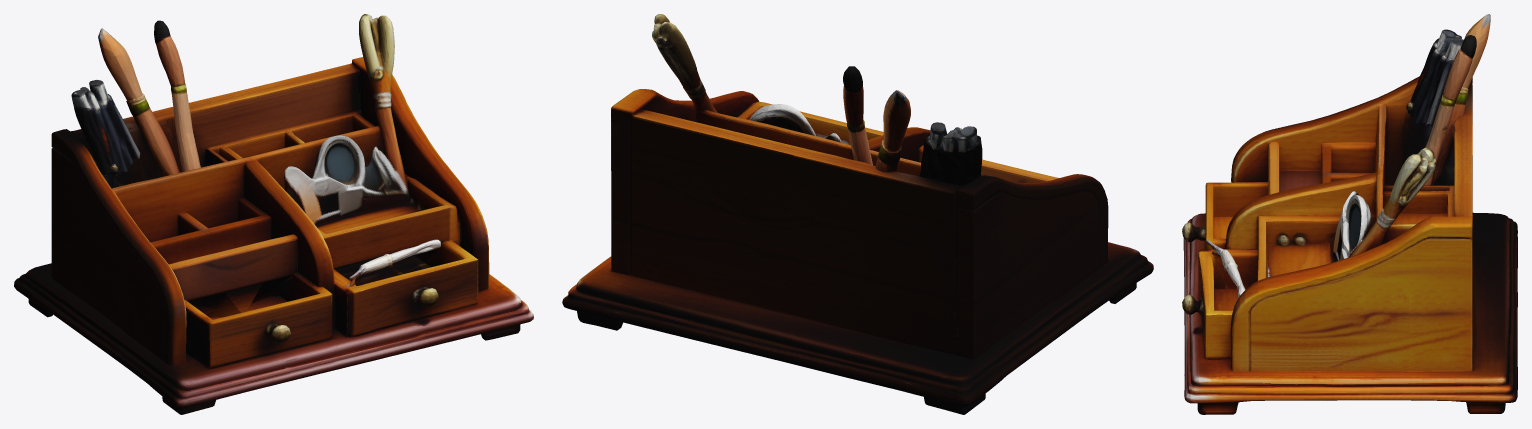
The model's file is wooden-desk-organizer-vintage.jpeg.glb.
The picture shows the model from 3 angles, left to right: view 1: azimuth 30°, elevation 25°; view 2: azimuth 150°, elevation 25°; view 3: azimuth 270°, elevation 25°; orthographic projection. The views are drawn at different scales.
Parts seen in each view (by area): view 1: world; view 2: world; view 3: world.
Part boxes in pixels (x1,y1,x2,y2): world: (14, 14, 533, 414); world: (562, 14, 1153, 414); world: (1182, 14, 1517, 414).
Size of the model in its own units: 1 by 0.7154 by 0.806.
Materials: 1 (1 with a texture image).
